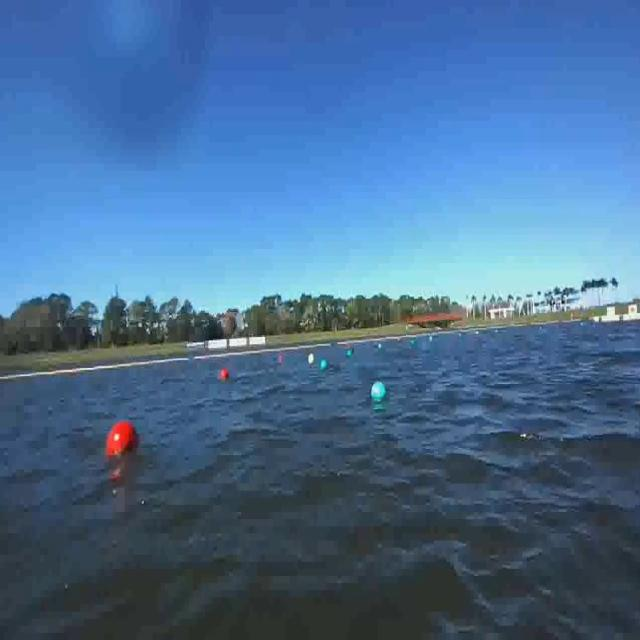green-buoy: (370, 380, 385, 399), (320, 358, 328, 370), (347, 350, 354, 358)
red-buoy: (105, 418, 143, 464), (221, 368, 228, 378)
yellow-buoy: (306, 353, 314, 365)
